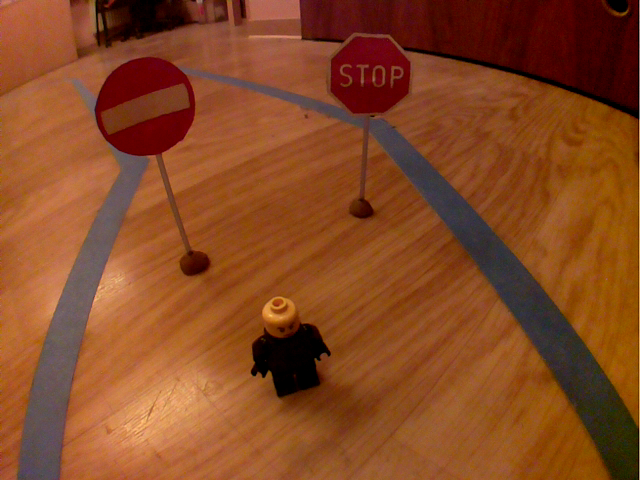Postac LEGO: (246, 291, 336, 402)
Stop: (322, 28, 415, 122)
Zakaz: (91, 54, 202, 161)
